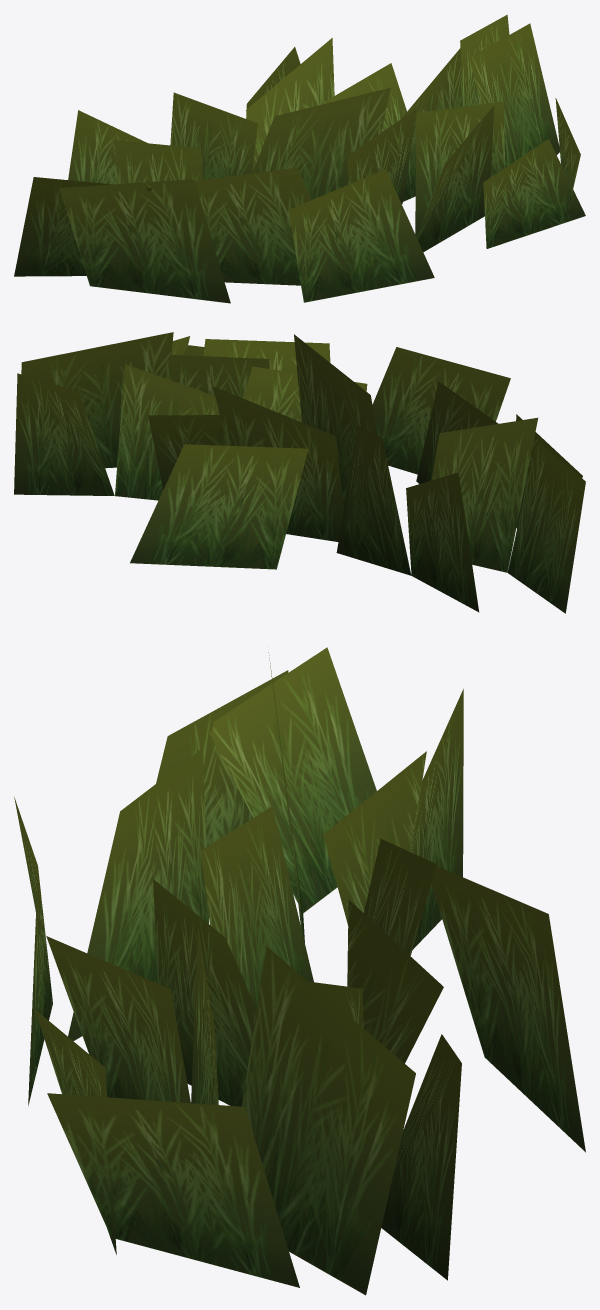
The model's file is grass_09.fbx.
3 renders of one model, top to bottom at view 1: azimuth 30°, elevation 25°; view 2: azimuth 150°, elevation 25°; view 3: azimuth 270°, elevation 25°, orthographic. The views are drawn at different scales.
Visible parts, largest first — view 1: polySurface160; view 2: polySurface160; view 3: polySurface160.
Boxes of the visible parts, x1=… form: polySurface160: x1=14, y1=14, x2=585, y2=303; polySurface160: x1=14, y1=332, x2=585, y2=613; polySurface160: x1=14, y1=647, x2=585, y2=1295.
Bounding box in the file's own units: 1.67 × 0.4514 × 0.8929.
